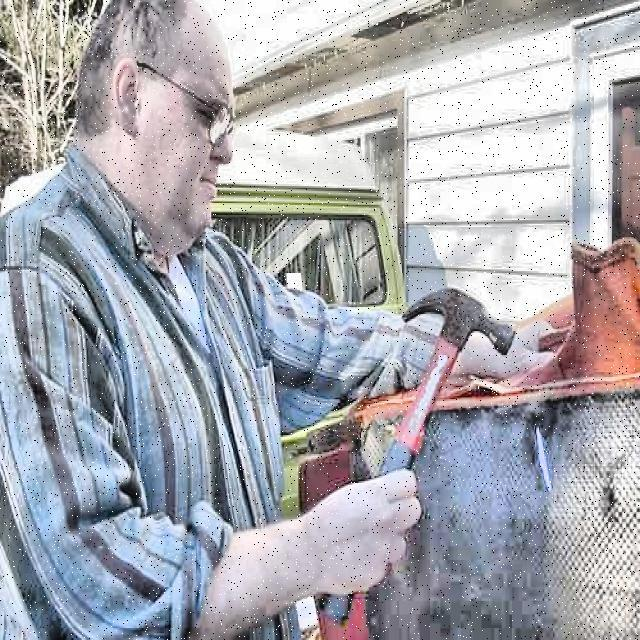hammer: (319, 287, 517, 626)
